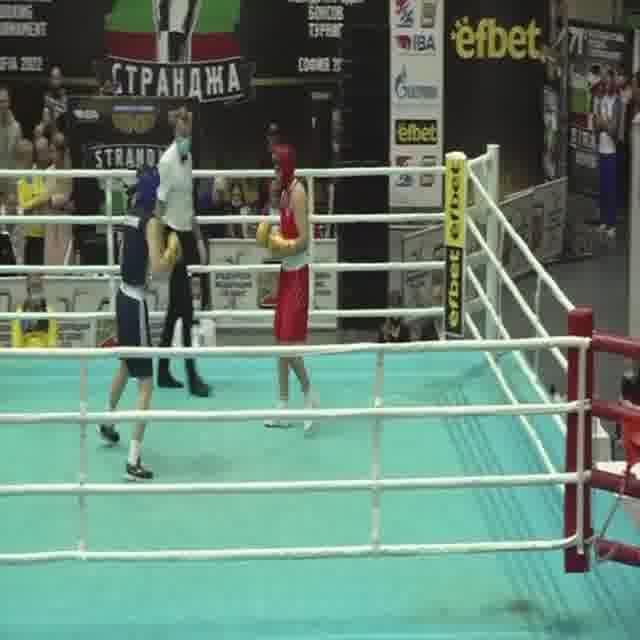blue-player: (93, 166, 182, 487)
red-player: (252, 138, 321, 435)
referee: (153, 101, 215, 399)
